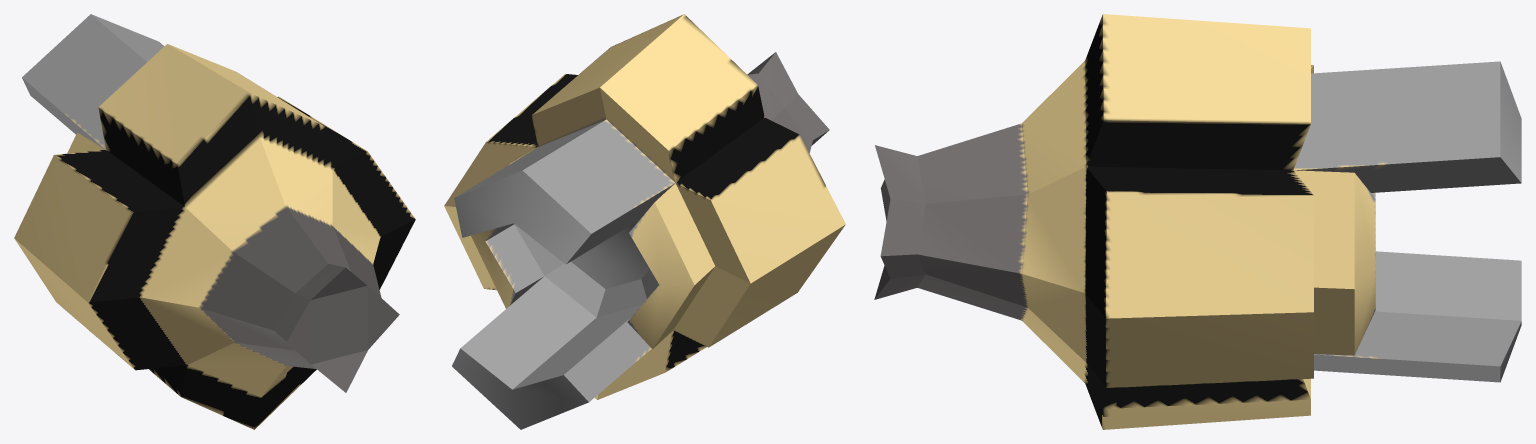
The model's file is turbine 3.FBX.
3 renders of one model, left to right at view 1: azimuth 30°, elevation 25°; view 2: azimuth 150°, elevation 25°; view 3: azimuth 270°, elevation 25°, orthographic. The views are drawn at different scales.
Visible parts, largest first — view 1: Box001; view 2: Box001; view 3: Box001.
Boxes of the visible parts, left/top/right/bottom form: Box001: left=14, top=14, right=415, bottom=429; Box001: left=444, top=14, right=845, bottom=429; Box001: left=874, top=14, right=1521, bottom=429.
Size of the model in its own units: 30.38 by 29.8 by 42.2.
Materials: 1 (1 with a texture image).
